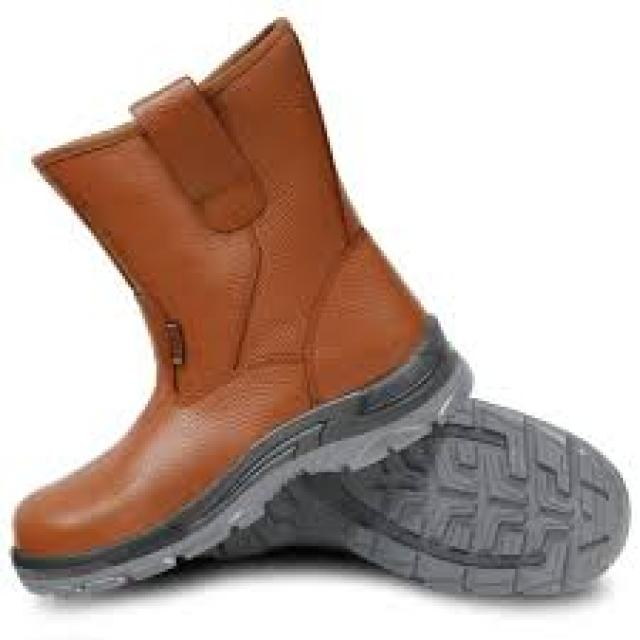shoes: (20, 21, 474, 597)
